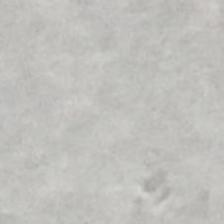Non_Crack: (14, 8, 218, 222)
